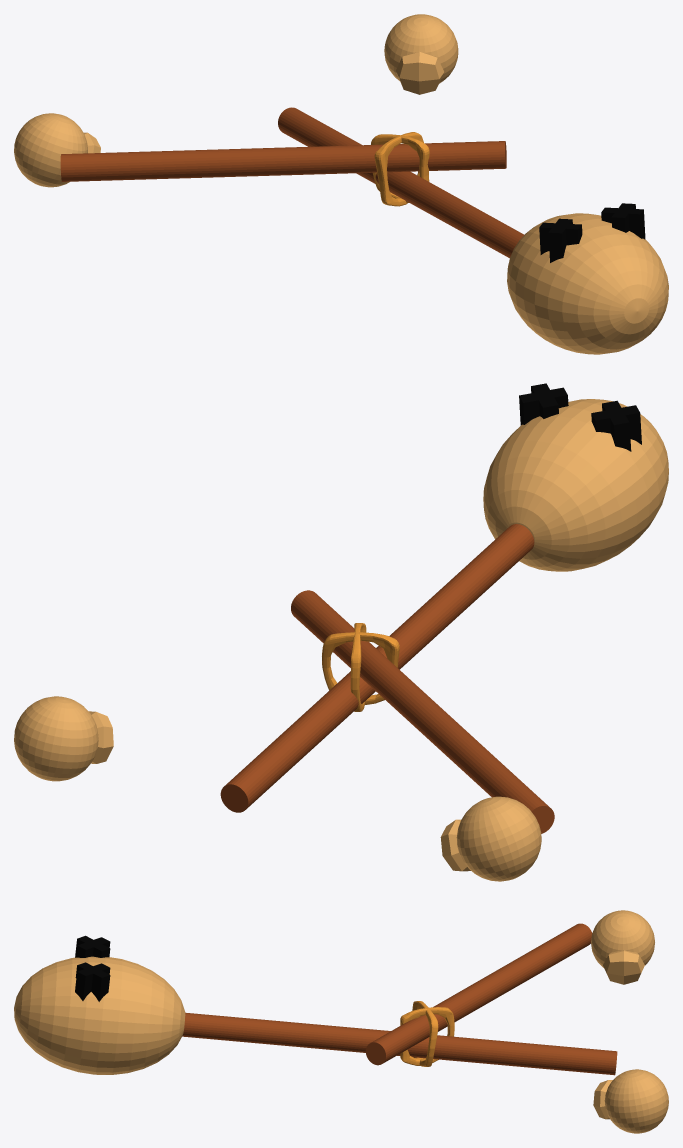
File: wall_tutorial_scarecrow.fbx
3 views of the same model, one above another, from view 1: azimuth 30°, elevation 25°; view 2: azimuth 150°, elevation 25°; view 3: azimuth 270°, elevation 25° (orthographic). The views are drawn at different scales.
Visible parts, largest first — view 1: 구체.002, 실린더.001, 실린더, 구체, 구체.001, 큐브.001, 큐브.002, 큐브.006, 큐브.004, 큐브.007; view 2: 구체.002, 실린더, 실린더.001, 구체, 구체.001, 큐브.002, 큐브.006, 큐브.004, 큐브, 큐브.007, 큐브.001; view 3: 구체.002, 실린더, 실린더.001, 구체.001, 구체, 큐브.004, 큐브, 큐브.007, 큐브.002, 큐브.006, 큐브.001.
Part boxes in pixels (bbox=[...]): 구체.002: bbox=[507, 213, 668, 354]; 실린더.001: bbox=[60, 141, 506, 181]; 실린더: bbox=[278, 107, 524, 258]; 구체: bbox=[14, 113, 87, 187]; 구체.001: bbox=[384, 14, 458, 83]; 큐브.001: bbox=[396, 52, 444, 94]; 큐브.002: bbox=[539, 218, 582, 262]; 큐브.006: bbox=[374, 132, 423, 206]; 큐브.004: bbox=[601, 203, 645, 239]; 큐브.007: bbox=[371, 134, 429, 202]; 구체.002: bbox=[483, 399, 668, 571]; 실린더: bbox=[220, 524, 534, 812]; 실린더.001: bbox=[291, 590, 554, 833]; 구체: bbox=[456, 796, 541, 881]; 구체.001: bbox=[14, 696, 98, 781]; 큐브.002: bbox=[591, 400, 641, 451]; 큐브.006: bbox=[322, 632, 399, 704]; 큐브.004: bbox=[519, 383, 568, 425]; 큐브: bbox=[440, 819, 470, 871]; 큐브.007: bbox=[350, 623, 366, 711]; 큐브.001: bbox=[89, 711, 113, 763]; 구체.002: bbox=[14, 956, 185, 1074]; 실린더: bbox=[182, 1012, 617, 1075]; 실린더.001: bbox=[365, 923, 592, 1065]; 구체.001: bbox=[604, 1069, 668, 1133]; 구체: bbox=[591, 910, 654, 967]; 큐브.004: bbox=[75, 962, 110, 1001]; 큐브: bbox=[603, 950, 644, 984]; 큐브.007: bbox=[400, 1007, 454, 1065]; 큐브.002: bbox=[75, 935, 110, 957]; 큐브.006: bbox=[412, 1001, 438, 1066]; 큐브.001: bbox=[593, 1080, 612, 1119].
Bounding box in the file's own units: 648 × 192 × 959.
